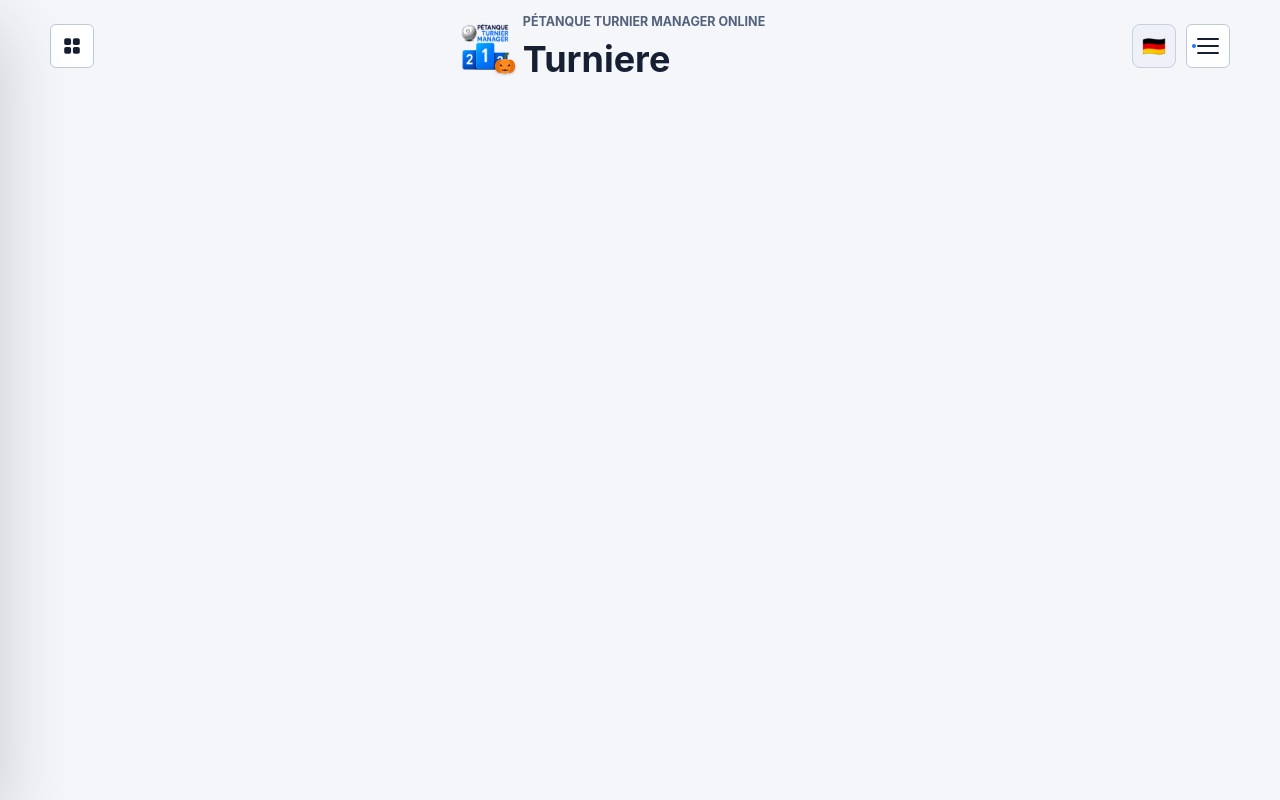
Test: Kopfzeile › zeigt die Sprachumschaltung dauerhaft in der oberen Leiste
Click the button named "Sprache: Deutsch" at (1154, 46), box [1132,24,1176,68]
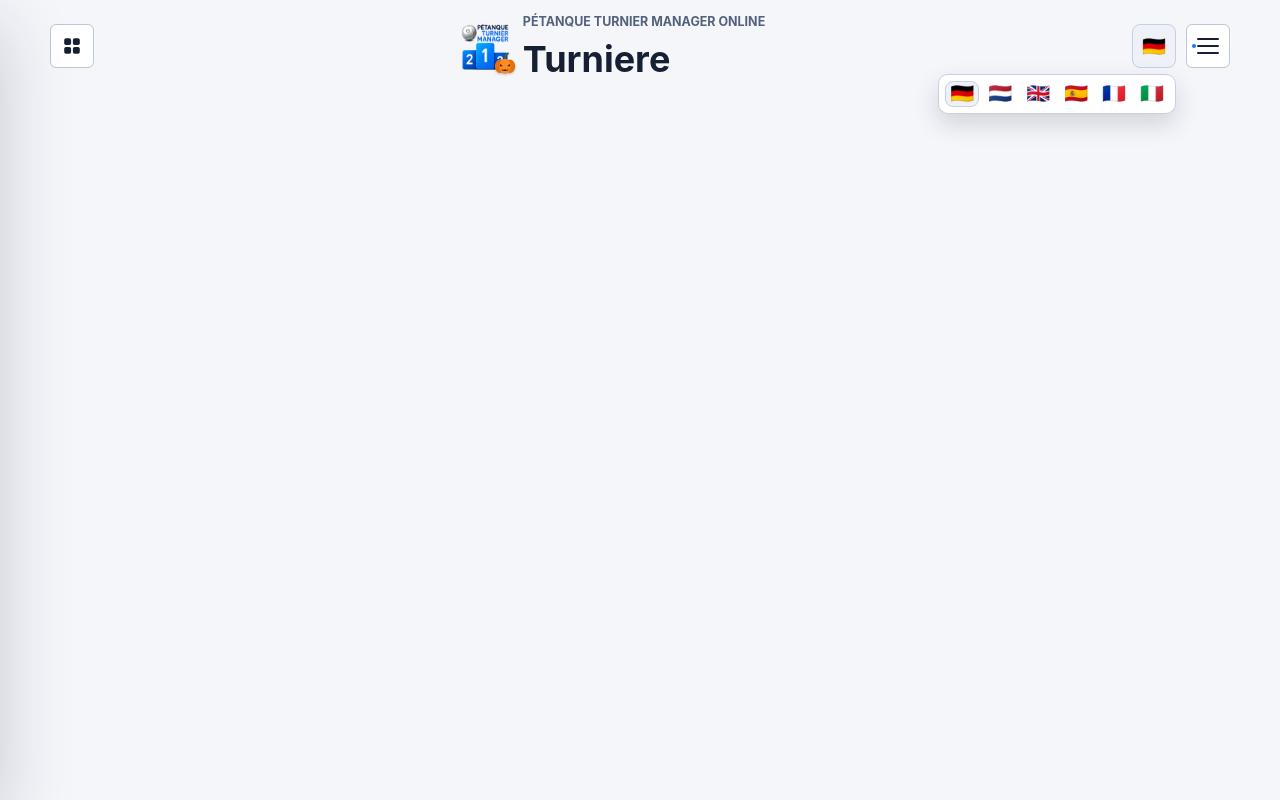
Click the menu item named "English" at (1038, 94), box [1021,81,1055,107]
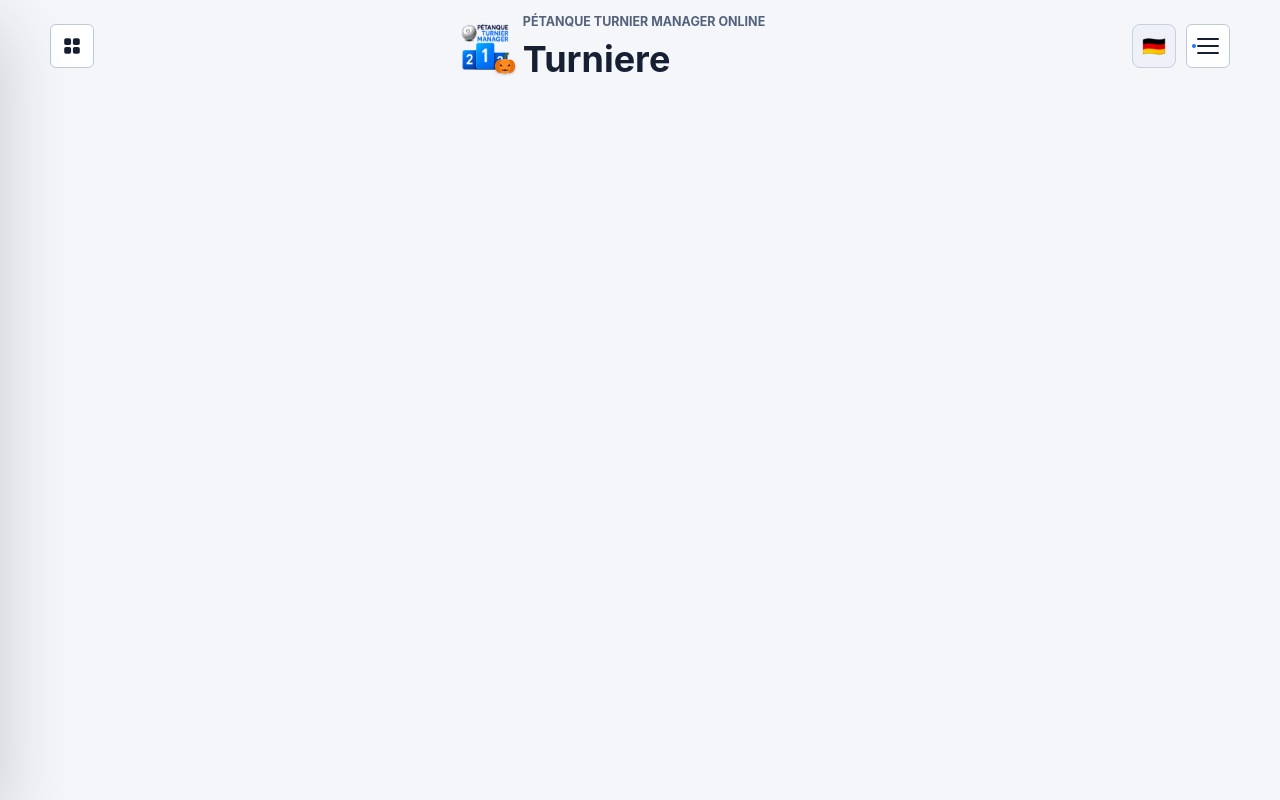
expect the menu "🇩🇪 🇳🇱 🇬🇧 🇪🇸 🇫🇷 🇮🇹" is gone: met
